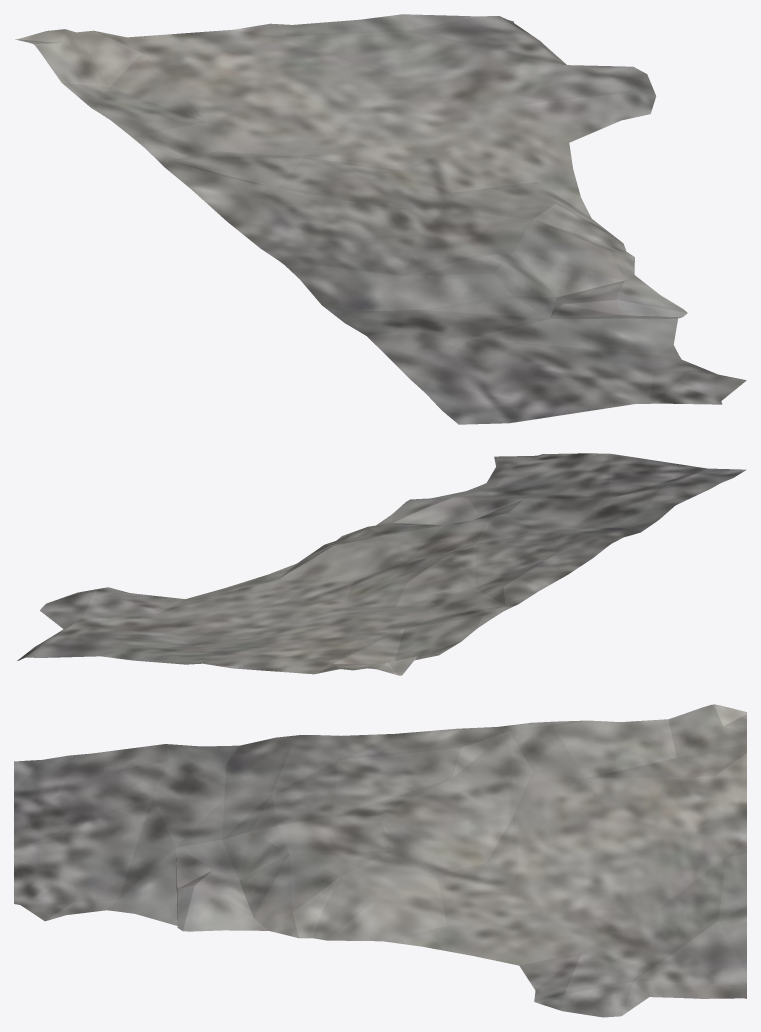
The picture shows the model from 3 angles, top to bottom: view 1: azimuth 30°, elevation 25°; view 2: azimuth 150°, elevation 25°; view 3: azimuth 270°, elevation 25°; orthographic projection. The views are drawn at different scales.
Bounding box in the file's own units: 0.5935 × 0.1178 × 0.8374.
1 material, 1 textured.
